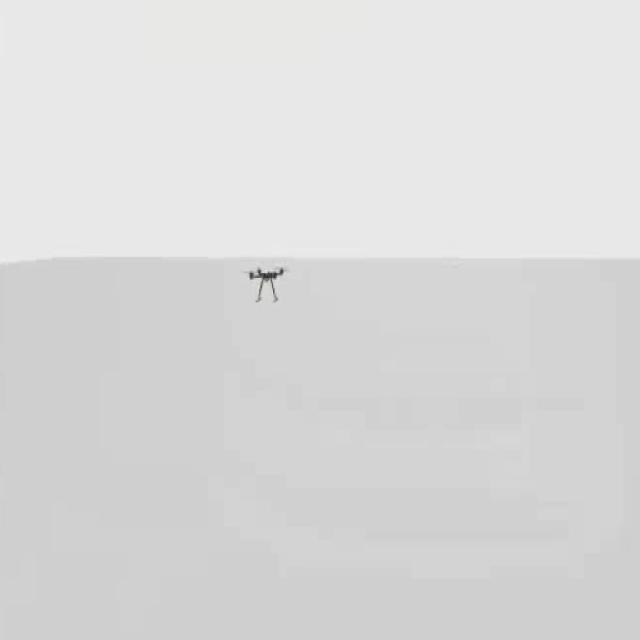drone: (245, 259, 288, 310)
